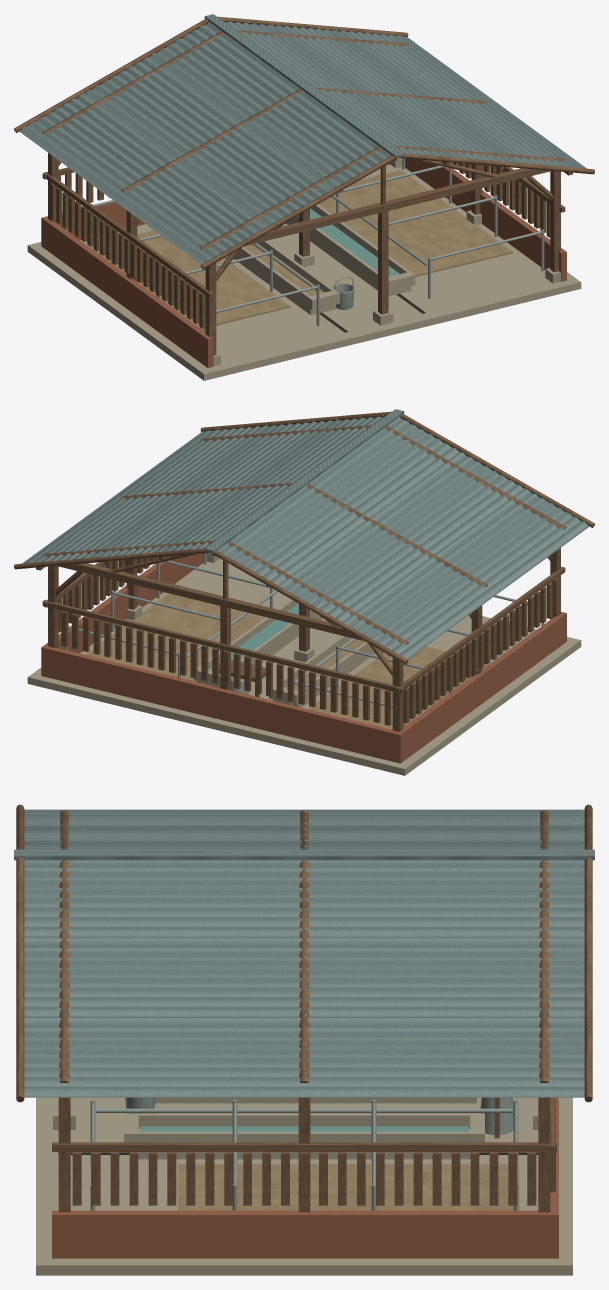
Rendered from barn.glb.
The picture shows the model from 3 angles, top to bottom: view 1: azimuth 30°, elevation 25°; view 2: azimuth 150°, elevation 25°; view 3: azimuth 270°, elevation 25°; orthographic projection. The views are drawn at different scales.
Parts seen in each view (by area): view 1: roof_aged_galvanized_roof, foundation_slab, frame_warm_weathered_hardwood, floor_dry_rice_straw_bedding, walls_local_terracotta_brick, walls_warm_weathered_hardwood, roof_warm_weathered_hardwood, stalls_brushed_galvanized_steel, water_trough_warm_lime_concrete, feed_trough_warm_lime_concrete, frame_warm_lime_concrete, water_surface (+1 smaller); view 2: roof_aged_galvanized_roof, walls_local_terracotta_brick, walls_warm_weathered_hardwood, foundation_slab, frame_warm_weathered_hardwood, floor_dry_rice_straw_bedding, roof_warm_weathered_hardwood, stalls_brushed_galvanized_steel, water_trough_warm_lime_concrete, feed_trough_warm_lime_concrete, water_surface, frame_warm_lime_concrete (+1 smaller); view 3: roof_aged_galvanized_roof, foundation_slab, walls_local_terracotta_brick, walls_warm_weathered_hardwood, frame_warm_weathered_hardwood, water_trough_warm_lime_concrete, floor_dry_rice_straw_bedding, roof_warm_weathered_hardwood, stalls_brushed_galvanized_steel, feed_trough_warm_lime_concrete, water_surface, equipment_brushed_galvanized_steel.
Part boxes in pixels (left/top/right/bottom): roof_aged_galvanized_roof: left=19, top=14, right=586, bottom=264; foundation_slab: left=27, top=164, right=581, bottom=380; frame_warm_weathered_hardwood: left=42, top=30, right=572, bottom=355; floor_dry_rice_straw_bedding: left=88, top=170, right=512, bottom=328; walls_local_terracotta_brick: left=41, top=158, right=566, bottom=367; walls_warm_weathered_hardwood: left=42, top=162, right=565, bottom=328; roof_warm_weathered_hardwood: left=14, top=16, right=594, bottom=269; stalls_brushed_galvanized_steel: left=64, top=158, right=544, bottom=331; water_trough_warm_lime_concrete: left=286, top=204, right=415, bottom=295; feed_trough_warm_lime_concrete: left=233, top=240, right=339, bottom=314; frame_warm_lime_concrete: left=213, top=158, right=560, bottom=365; water_surface: left=310, top=208, right=399, bottom=276; roof_aged_galvanized_roof: left=22, top=409, right=589, bottom=659; walls_local_terracotta_brick: left=41, top=553, right=566, bottom=763; walls_warm_weathered_hardwood: left=42, top=557, right=565, bottom=725; foundation_slab: left=27, top=558, right=581, bottom=775; frame_warm_weathered_hardwood: left=36, top=425, right=566, bottom=731; floor_dry_rice_straw_bedding: left=85, top=593, right=491, bottom=729; roof_warm_weathered_hardwood: left=14, top=411, right=594, bottom=664; stalls_brushed_galvanized_steel: left=64, top=553, right=544, bottom=726; water_trough_warm_lime_concrete: left=193, top=599, right=322, bottom=687; feed_trough_warm_lime_concrete: left=269, top=635, right=375, bottom=707; water_surface: left=209, top=603, right=298, bottom=669; frame_warm_lime_concrete: left=127, top=553, right=314, bottom=662; roof_aged_galvanized_roof: left=14, top=809, right=594, bottom=1097; foundation_slab: left=36, top=1097, right=572, bottom=1275; walls_local_terracotta_brick: left=52, top=1097, right=558, bottom=1258; walls_warm_weathered_hardwood: left=52, top=1097, right=556, bottom=1205; frame_warm_weathered_hardwood: left=58, top=810, right=550, bottom=1212; water_trough_warm_lime_concrete: left=124, top=1113, right=484, bottom=1159; floor_dry_rice_straw_bedding: left=178, top=1164, right=519, bottom=1210; roof_warm_weathered_hardwood: left=16, top=804, right=592, bottom=1102; stalls_brushed_galvanized_steel: left=90, top=1099, right=518, bottom=1210; feed_trough_warm_lime_concrete: left=155, top=1097, right=476, bottom=1103; water_surface: left=140, top=1126, right=468, bottom=1131; equipment_brushed_galvanized_steel: left=480, top=1097, right=513, bottom=1134.
Size of the model in its own units: 10.94 by 4.94 by 9.2.
8 materials, 3 textured.
